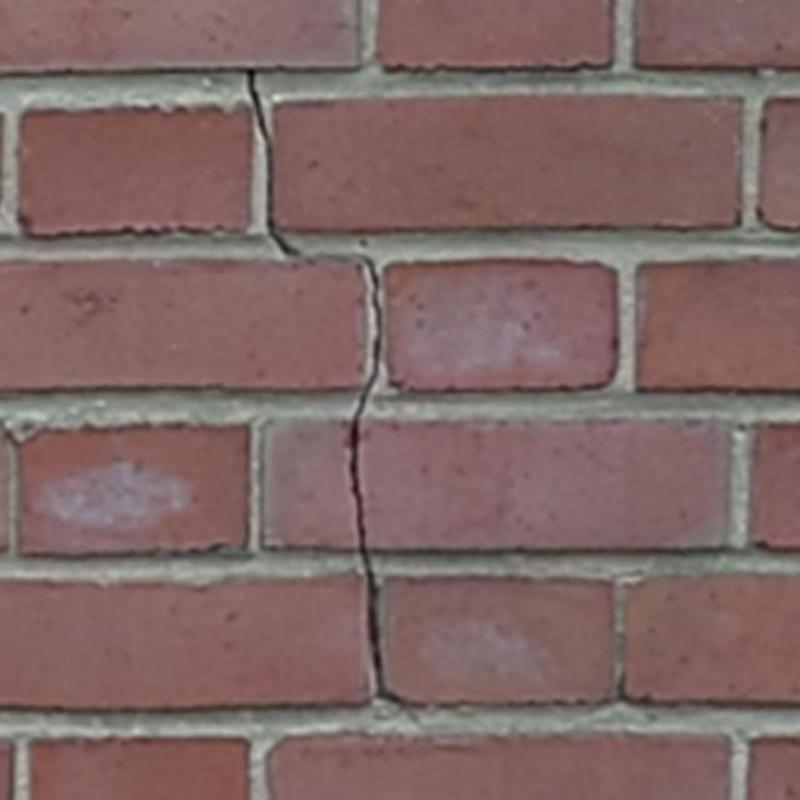pothole: (345, 253, 413, 709), (246, 71, 303, 256)
